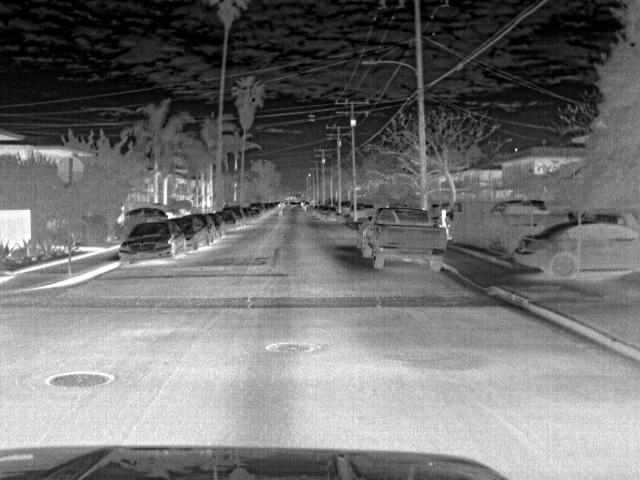car: (513, 220, 639, 283), (360, 207, 446, 272), (115, 222, 187, 266), (488, 200, 571, 236), (121, 205, 169, 228), (170, 218, 201, 248), (185, 215, 213, 242), (223, 206, 244, 226), (208, 213, 225, 237), (217, 210, 236, 229), (320, 207, 337, 222), (249, 202, 267, 214), (249, 207, 261, 220)
person: (435, 207, 452, 242)
